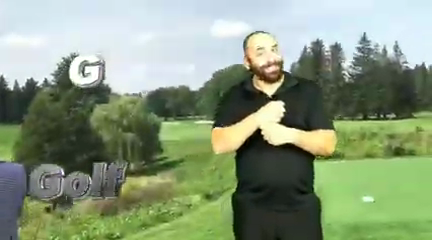G: (257, 99, 293, 150)
